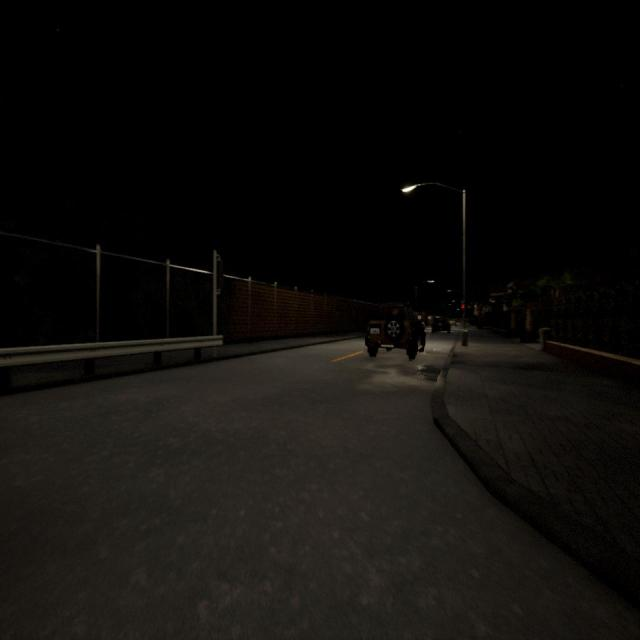Vehicle: (365, 304, 425, 359), (431, 316, 452, 334)
traffic_light: (216, 260, 223, 288), (460, 304, 464, 312)
